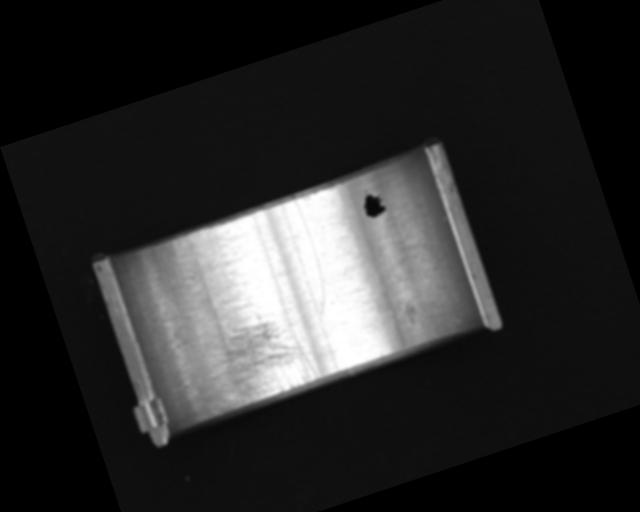blot: (357, 184, 388, 221)
bruise: (401, 300, 422, 328)
nick: (282, 195, 336, 317)
scratch: (189, 299, 323, 419)
